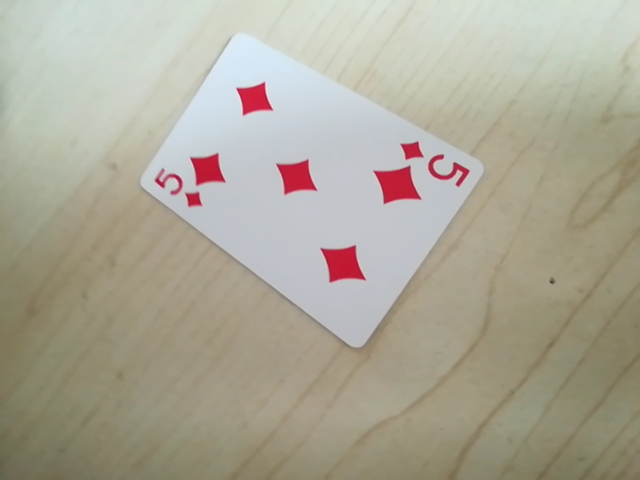fk 5: (393, 139, 473, 184), (150, 169, 211, 211)
